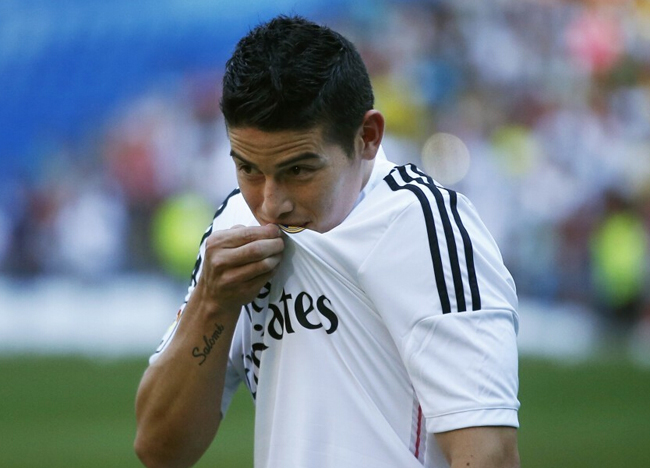face: (228, 113, 352, 242)
